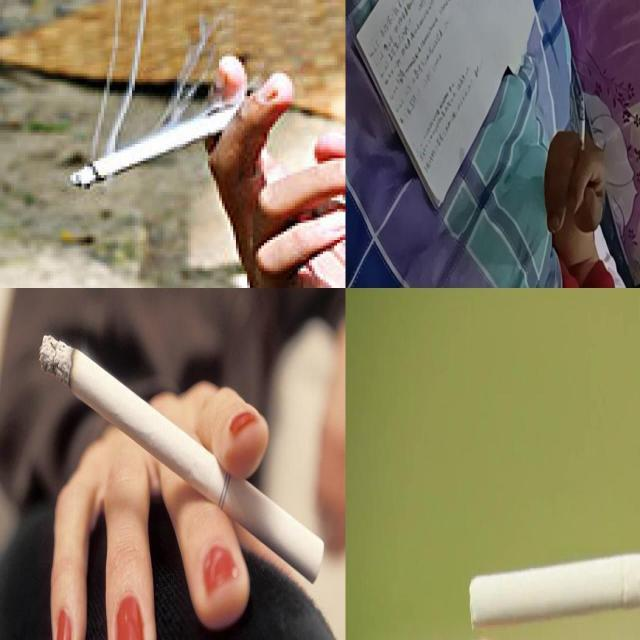cigarette: (38, 334, 326, 583), (470, 540, 640, 630), (64, 104, 230, 190), (579, 98, 585, 161)
